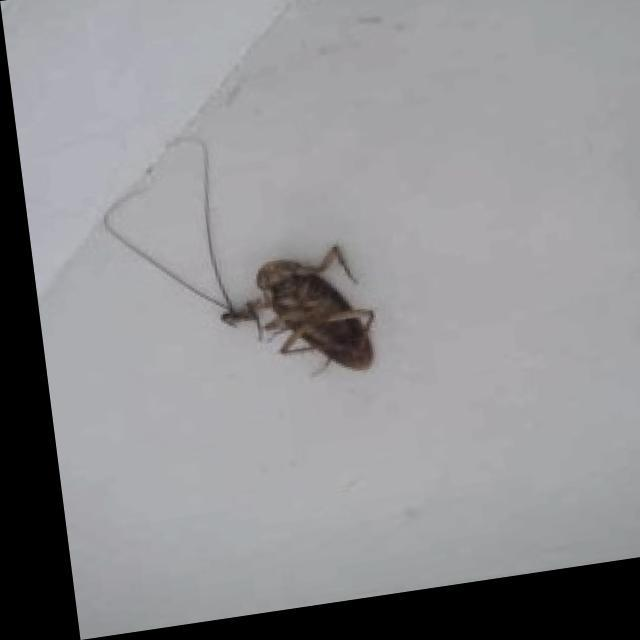cockroach: (219, 240, 380, 378)
